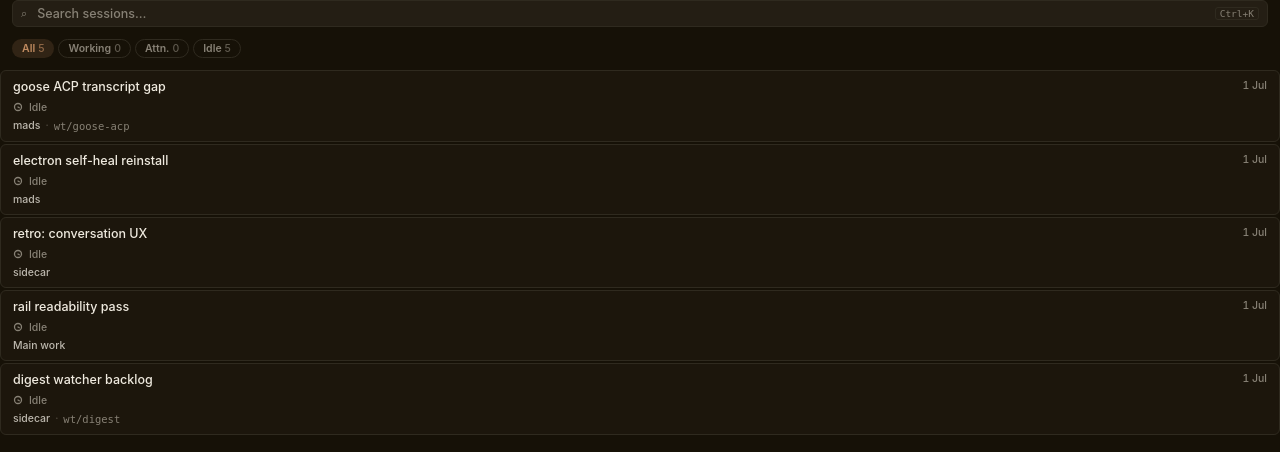
Test: SessionRail omni search › ANDs whitespace-separated terms
Type "goose acp" into the field labelled "Search sessions" at (621, 14), box [35, 5, 1207, 22]
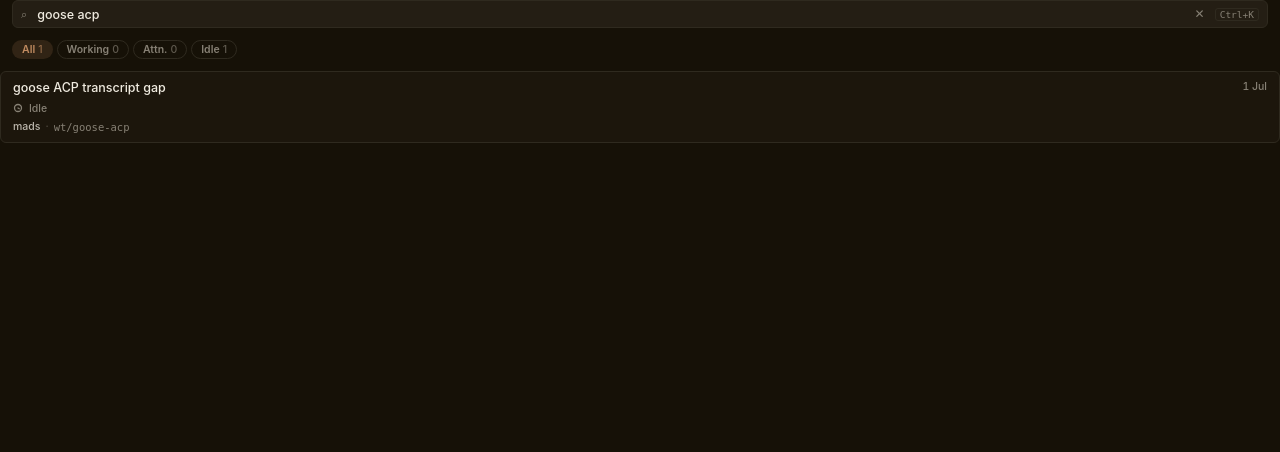
Replace the text in the field named "Search sessions" with "goose sidecar" at (610, 14), box [35, 6, 1185, 22]
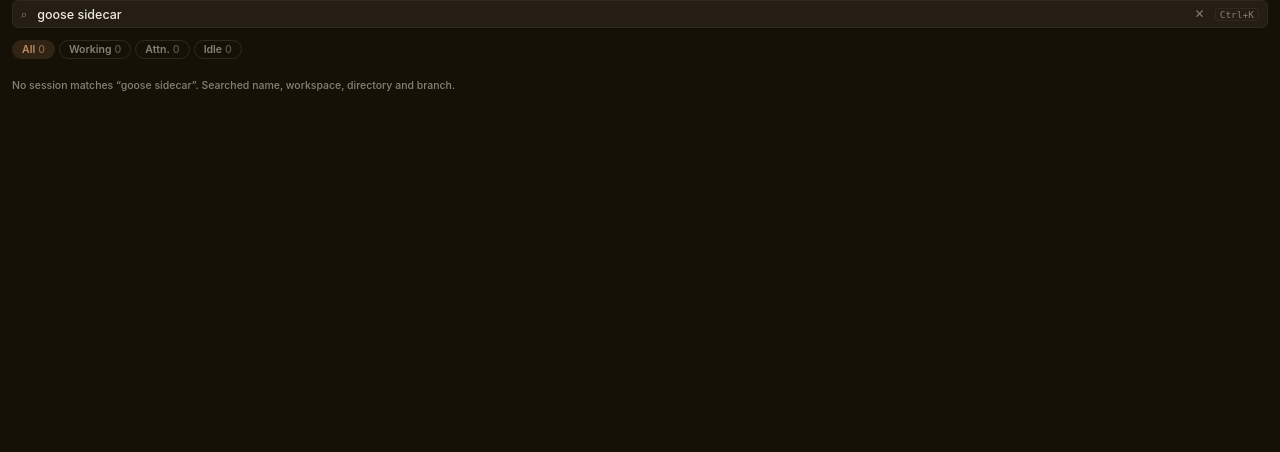
Result: the text "No session matches" is shown at [12, 79, 455, 92]
